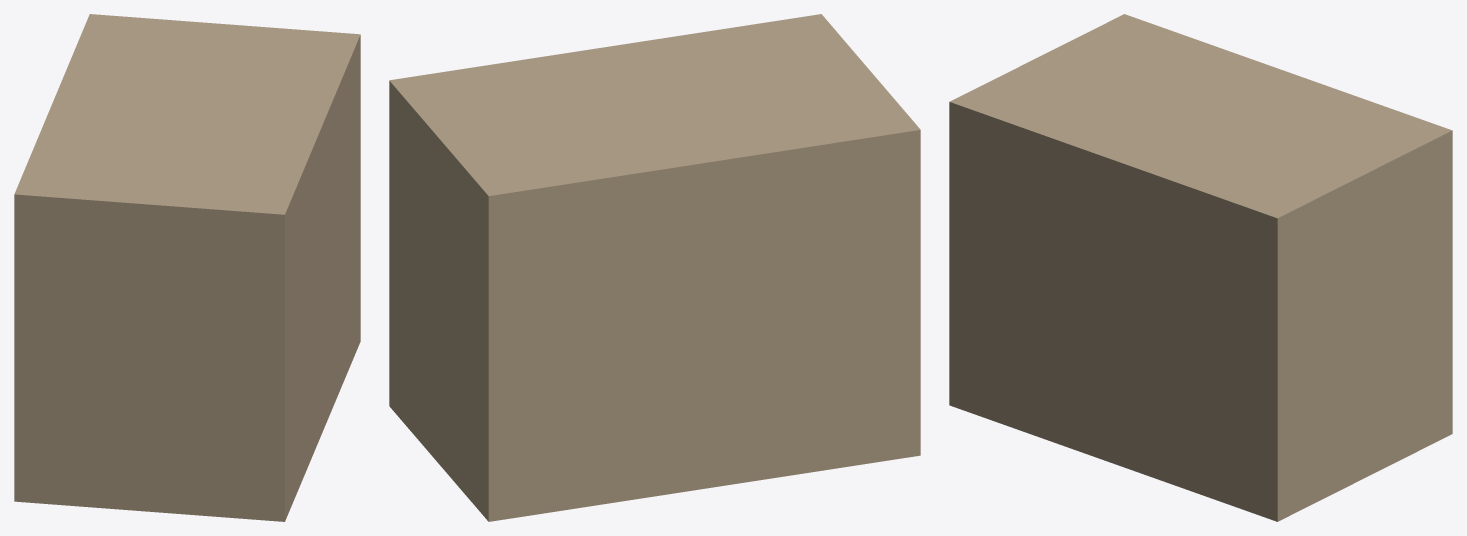
The model's file is bld_101791647.dae.
The picture shows the model from 3 angles, left to right: view 1: azimuth 30°, elevation 25°; view 2: azimuth 150°, elevation 25°; view 3: azimuth 270°, elevation 25°; orthographic projection. The views are drawn at different scales.
Parts seen in each view (by area): view 1: bld_101791647; view 2: bld_101791647; view 3: bld_101791647.
Boxes of the visible parts, x1=… form: bld_101791647: x1=14, y1=14, x2=360, y2=521; bld_101791647: x1=389, y1=14, x2=920, y2=521; bld_101791647: x1=949, y1=14, x2=1452, y2=521.
Size of the model in its own units: 11.55 by 12.01 by 8.
